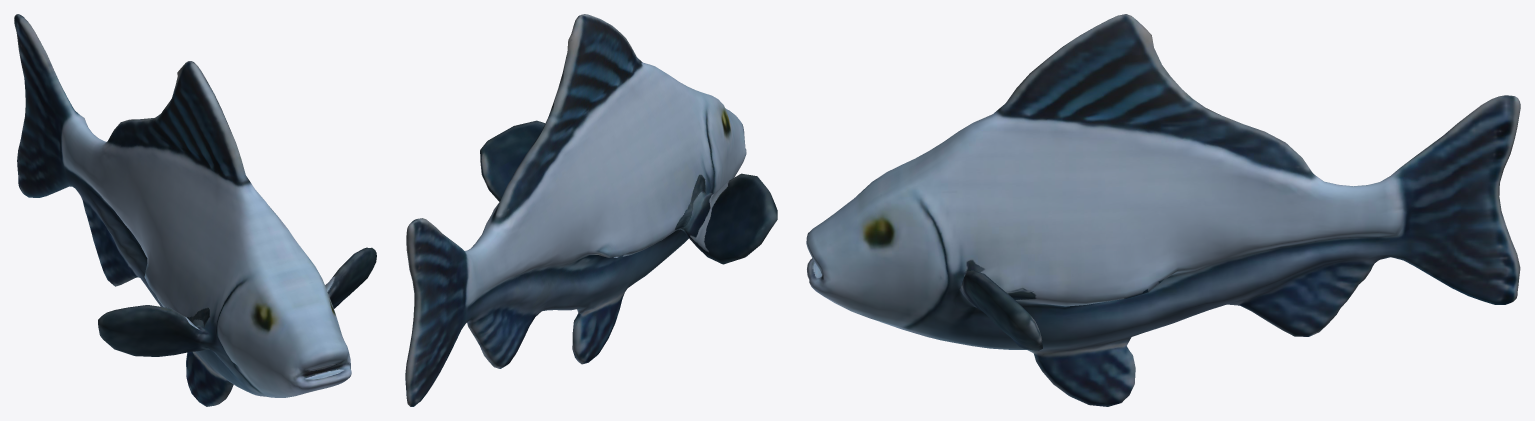
File: fish_06.glb
3 renders of one model, left to right at view 1: azimuth 30°, elevation 25°; view 2: azimuth 150°, elevation 25°; view 3: azimuth 270°, elevation 25°, orthographic. The views are drawn at different scales.
Parts seen in each view (by area): view 1: mesh; view 2: mesh; view 3: mesh.
Boxes of the visible parts, x1,y1,x2,y2 form: mesh: (14,14,376,406); mesh: (405,14,777,406); mesh: (806,14,1520,406).
Size of the model in its own units: 0.5223 by 0.6009 by 0.9956.
1 material, 1 textured.
